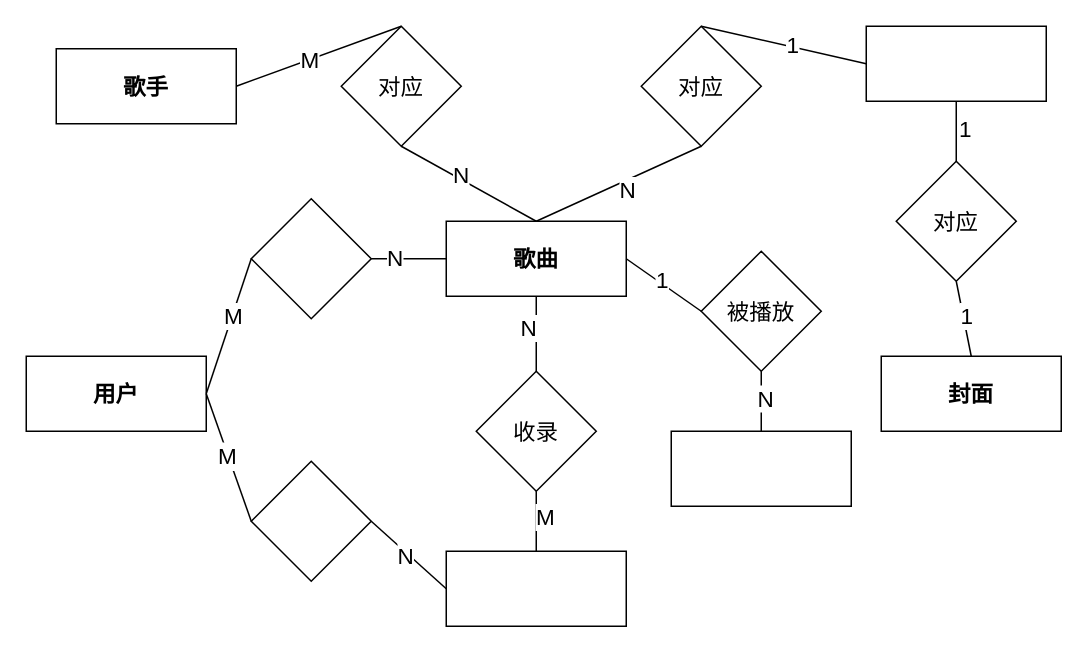
Image size: 1088x653. Some labels were removed from this diagram. The centre of each missing label's shape, as x and y in pixels:
"专辑" belongs at point (955, 63).
"创建" belongs at point (310, 520).
"播放/收藏" belongs at point (310, 258).
"播放历史" belongs at point (760, 468).
"歌单" belongs at point (535, 588).
